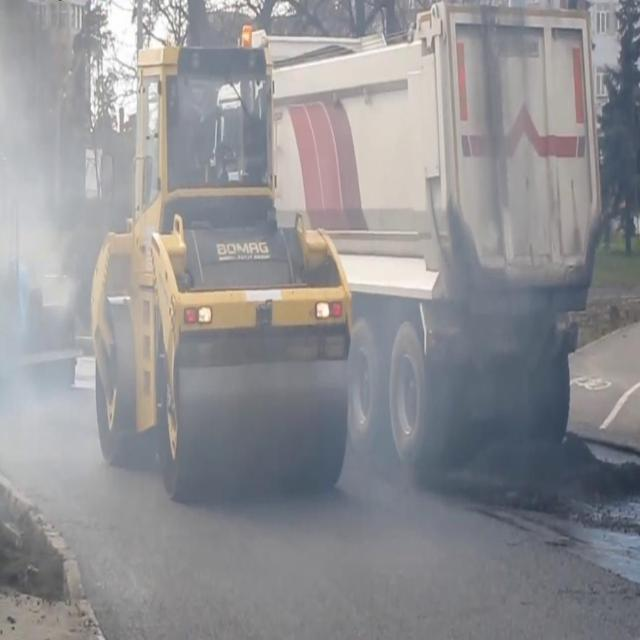Dump Truck: (276, 7, 604, 478)
Roller: (94, 44, 344, 490)
